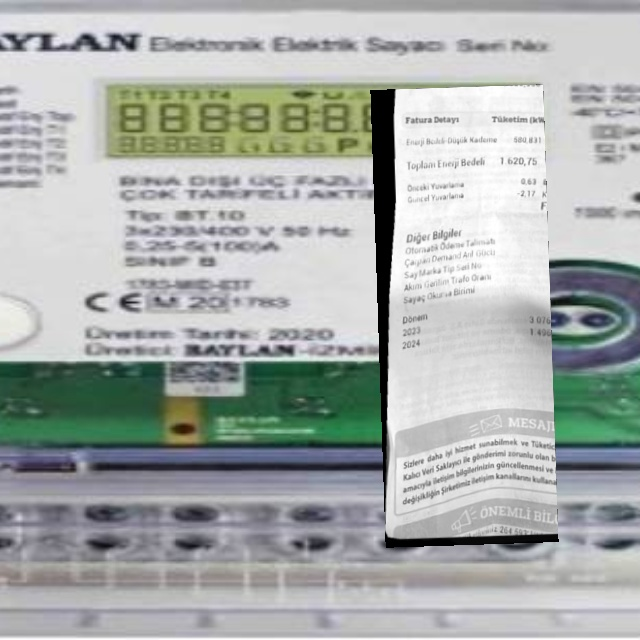electricity-bill: (370, 84, 558, 548)
